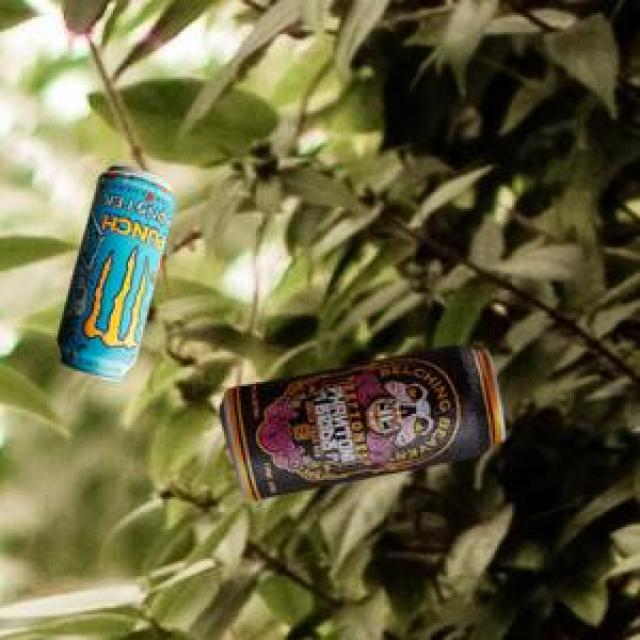logam: (217, 342, 502, 498), (54, 163, 172, 379)
